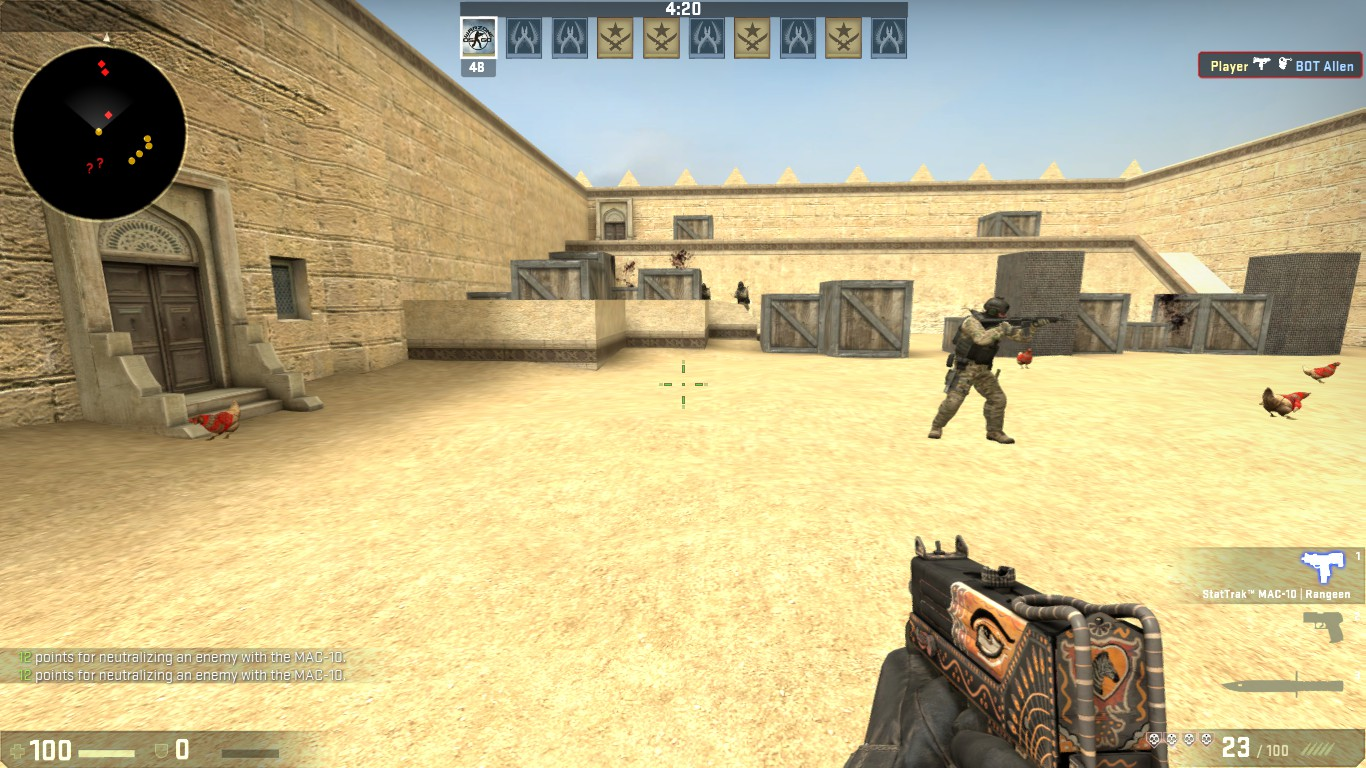c: (933, 293, 1015, 439), (734, 281, 752, 310), (702, 281, 712, 301)
ch: (977, 296, 1011, 321), (736, 280, 746, 292), (701, 282, 707, 291)
